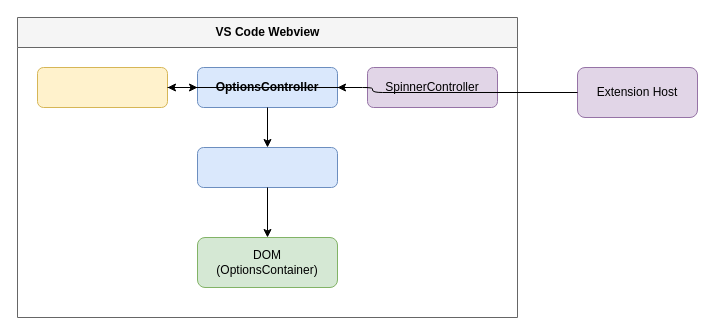
Image size: 715x335. Some labels were removed from this diagram. Each missing label, with the centre of its shape:
MessageRouter: point (102, 87)
OptionsView: point (267, 167)
